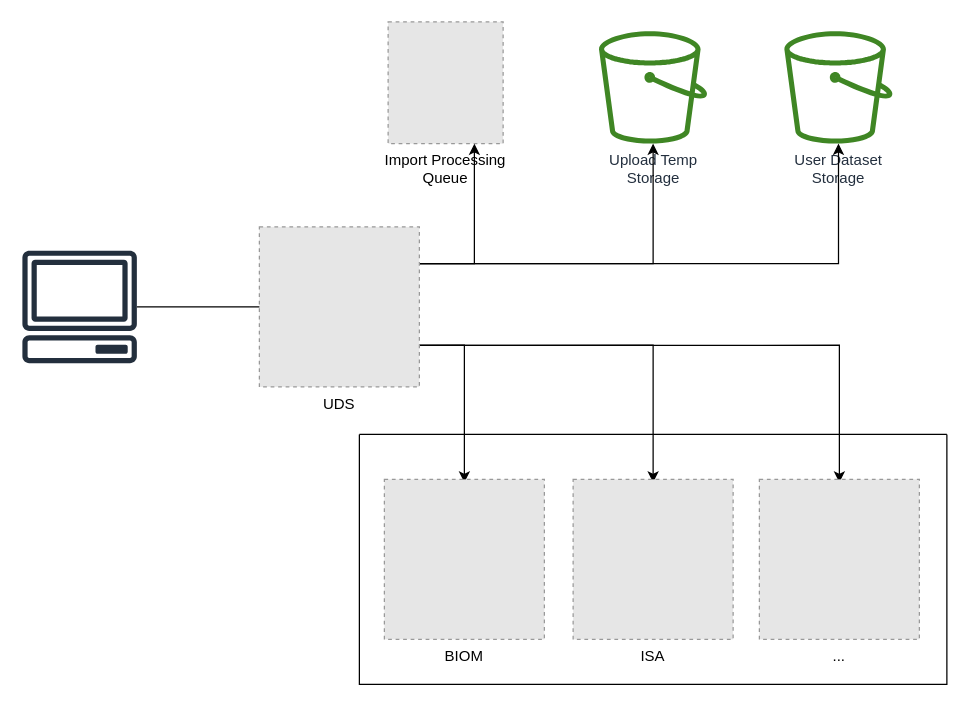
Image size: 969x706. Some labels were removed from this diagram. Grey dashed boxes stand in for pictures. The box of each missing label's shape, as (x1, y1, x2, y2) in pixels:
Dataset Import Handlers: (358, 433, 947, 684)
HTTP Client: (21, 250, 137, 362)
